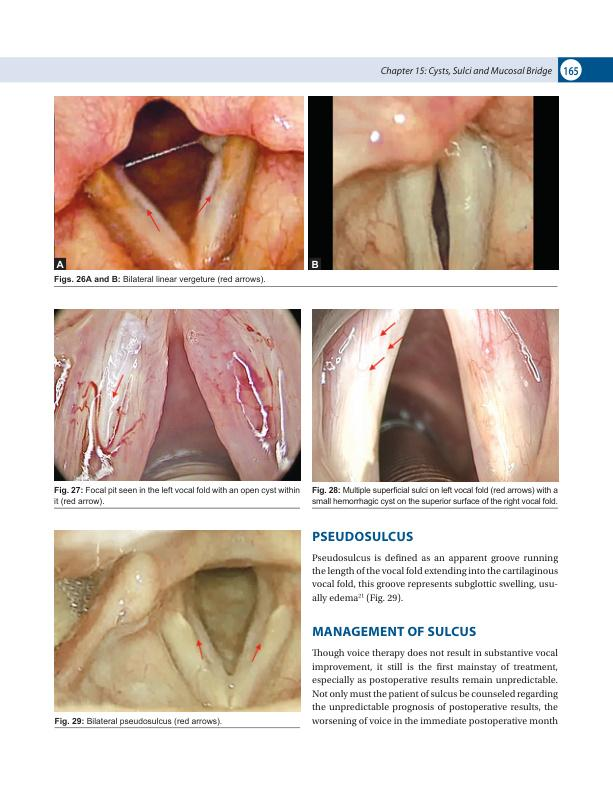caption: (52, 484, 302, 506), (310, 485, 560, 507), (53, 274, 266, 286), (53, 716, 223, 727), (55, 259, 65, 269), (311, 259, 320, 269)
header: (379, 65, 553, 78)
image: (54, 529, 301, 713), (307, 95, 560, 271), (54, 95, 304, 271), (311, 307, 560, 483), (54, 309, 302, 480)
section-heading: (311, 625, 477, 638), (312, 530, 414, 542)
text: (311, 647, 559, 728), (311, 551, 559, 605)
